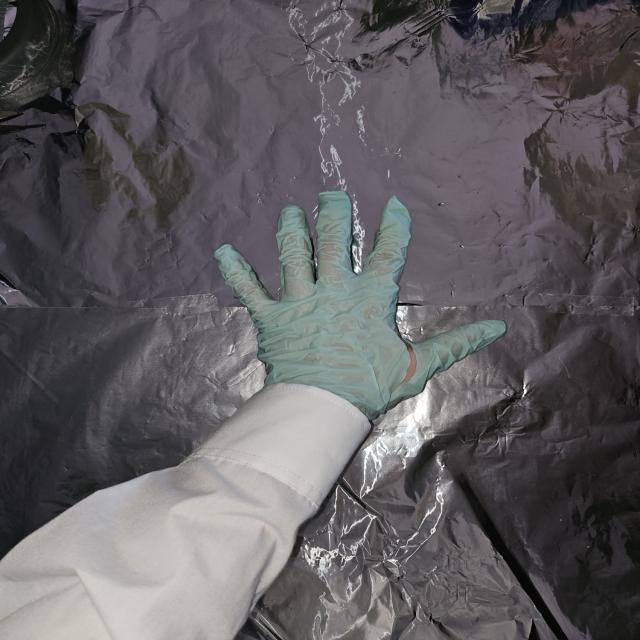gloves_damaged: (212, 189, 506, 420)
